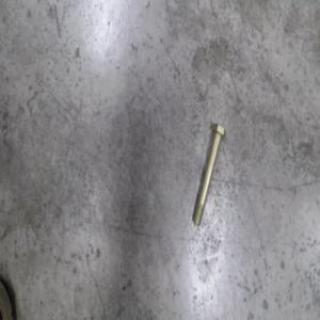Bolttrack_idkeyframe: (189, 121, 225, 228)
